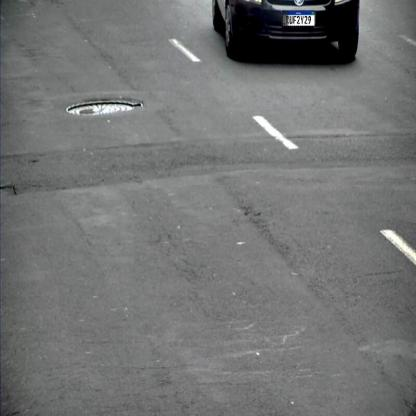PlacaM: (282, 10, 315, 26)
